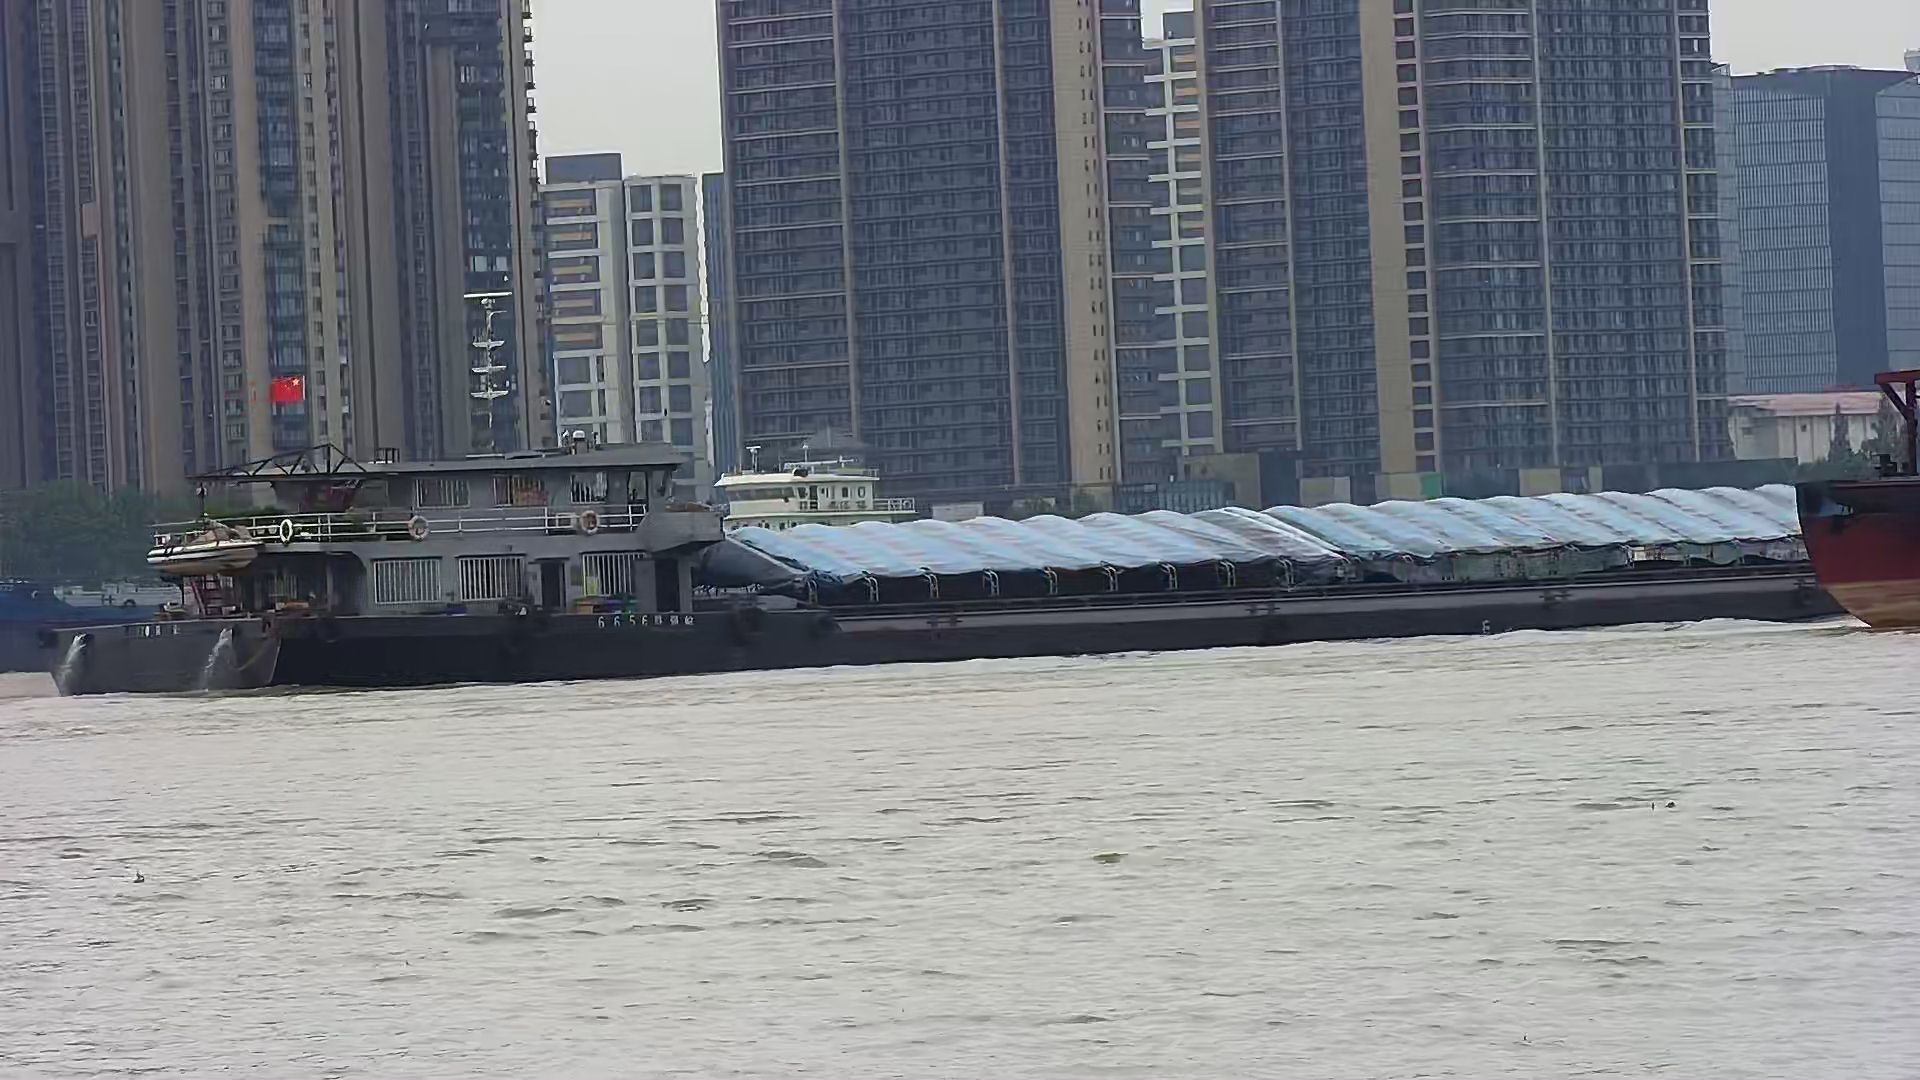ship: (44, 368, 1905, 700)
